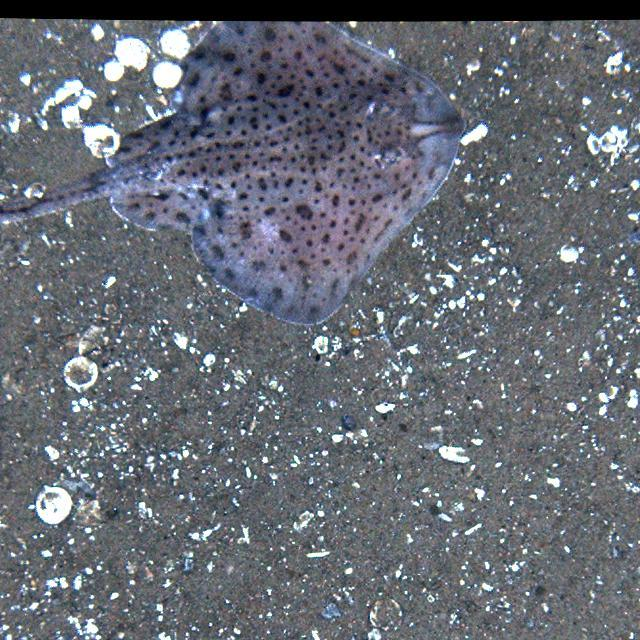skate: (0, 21, 460, 326)
